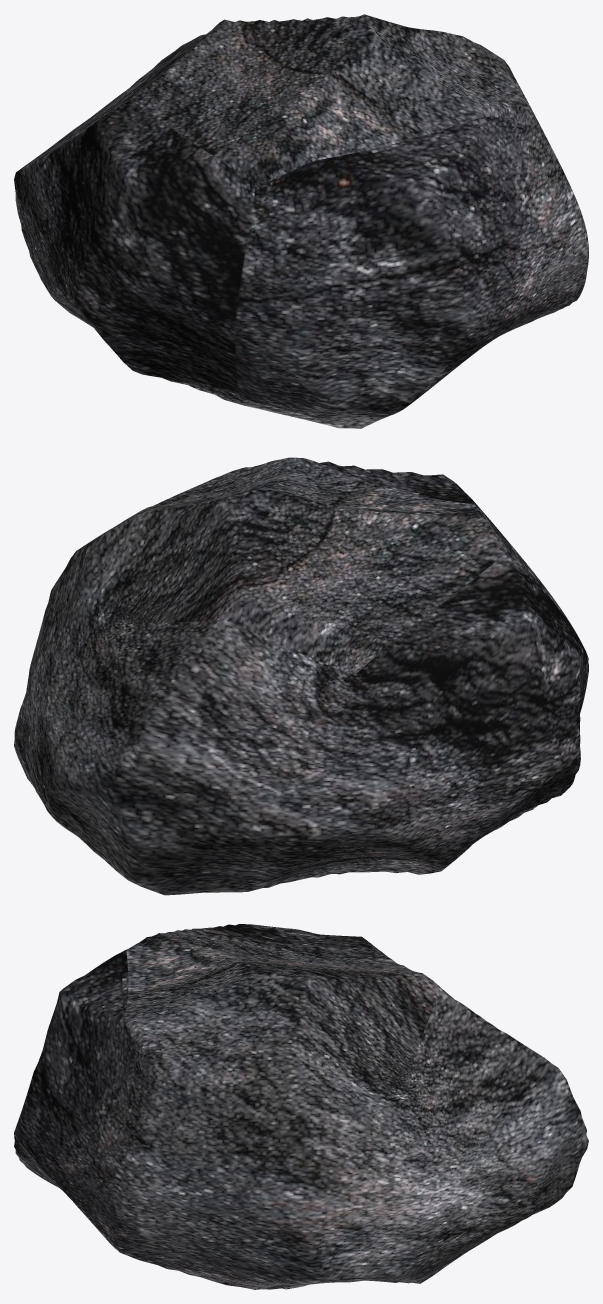
Rendered from Pedra_Média_Textured.fbx.
The picture shows the model from 3 angles, top to bottom: view 1: azimuth 30°, elevation 25°; view 2: azimuth 150°, elevation 25°; view 3: azimuth 270°, elevation 25°; orthographic projection. The views are drawn at different scales.
Visible parts, largest first — view 1: Cube; view 2: Cube; view 3: Cube.
Part boxes in pixels (<box>): Cube: <box>14,14,588,428</box>; Cube: <box>14,457,588,895</box>; Cube: <box>14,924,588,1289</box>.
Bounding box in the file's own units: 212 × 130 × 229.
1 material, 1 textured.
